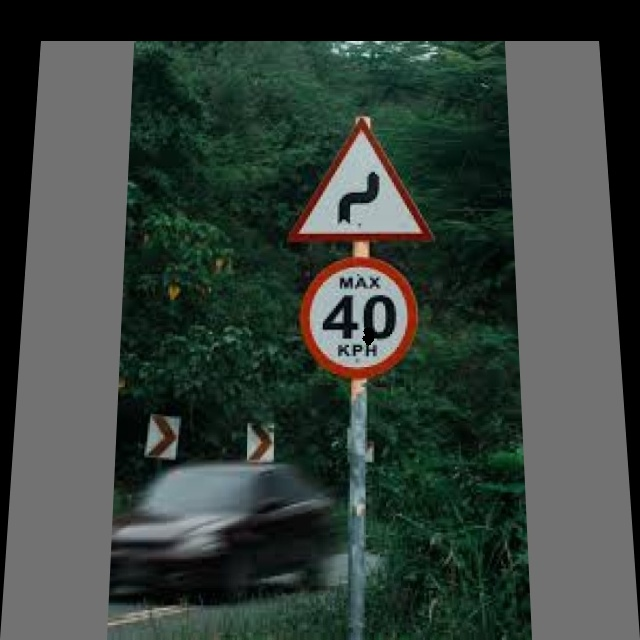Speed_Limit_40: (302, 255, 421, 383)
